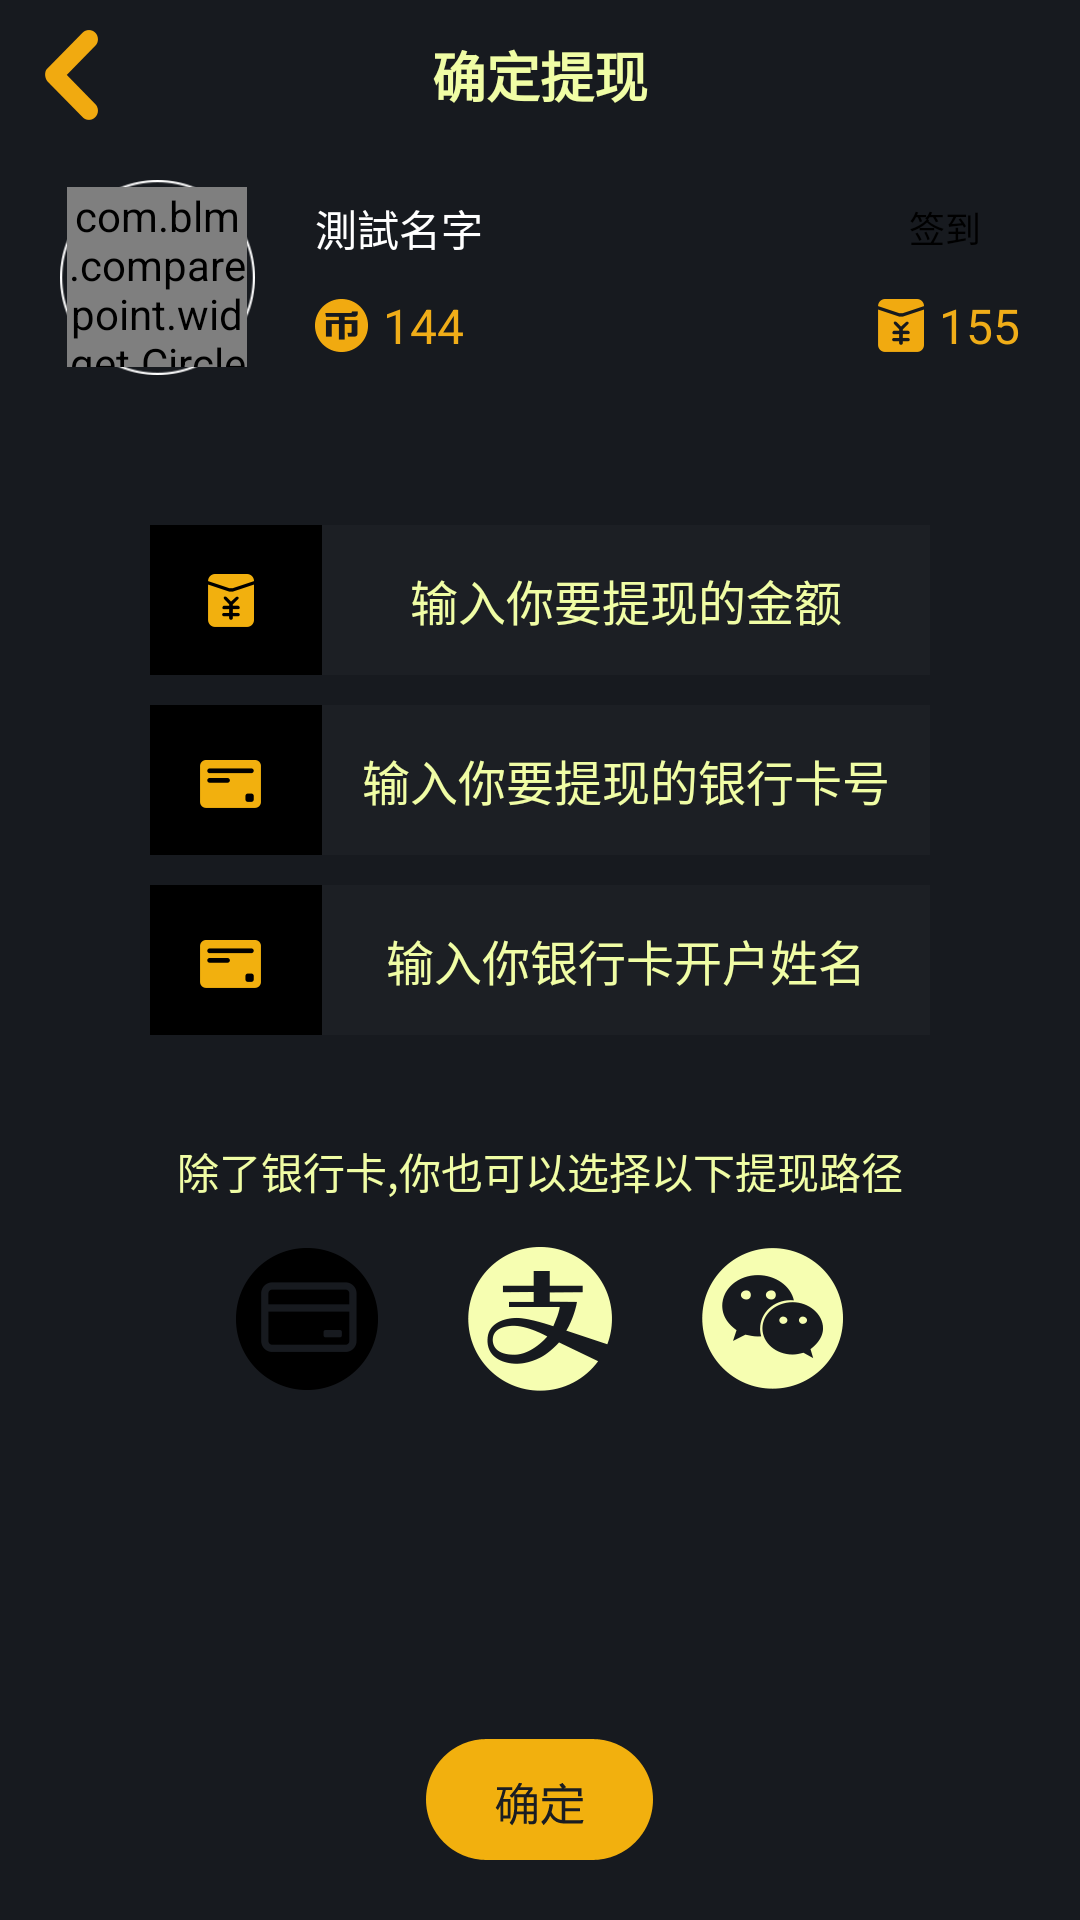

Point at icon controls on the screen. Image size 1080px×1920px, points as [x,y].
back: [71,75]
checkbox card: [307,1319]
